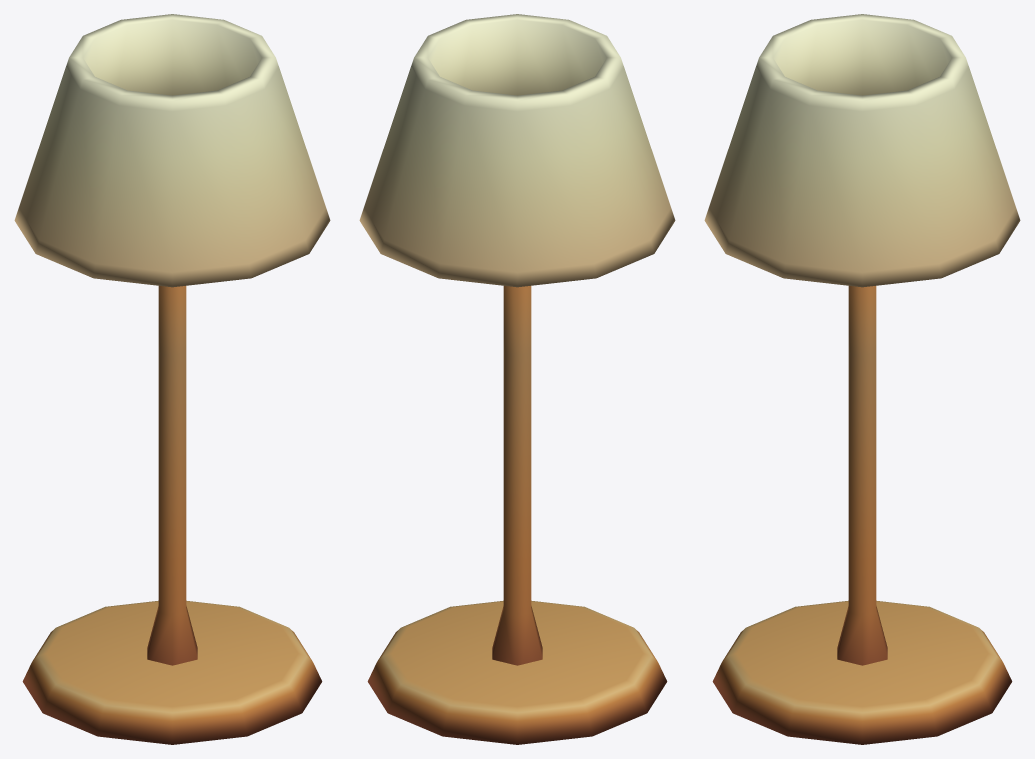
Rendered from StandingLamp.fbx.
3 renders of one model, left to right at view 1: azimuth 30°, elevation 25°; view 2: azimuth 150°, elevation 25°; view 3: azimuth 270°, elevation 25°, orthographic.
Visible parts, largest first — view 1: StandingLamp; view 2: StandingLamp; view 3: StandingLamp.
Boxes of the visible parts, x1,y1,x2,y2 form: StandingLamp: (14, 14, 330, 744); StandingLamp: (359, 14, 675, 744); StandingLamp: (704, 14, 1020, 744).
Bounding box in the file's own units: 2.01 × 0.9223 × 0.9223.
